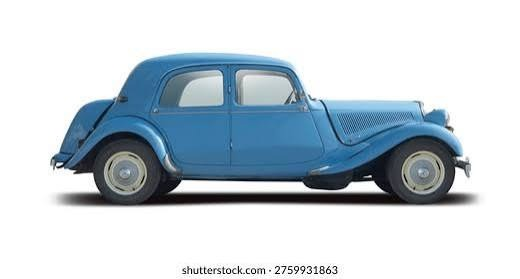car: (51, 53, 468, 202), (51, 53, 475, 199)
